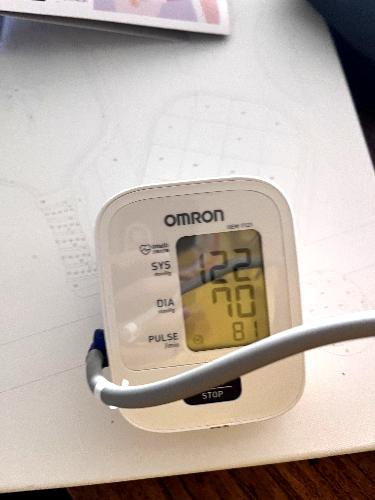bpm: (173, 227, 274, 356)
